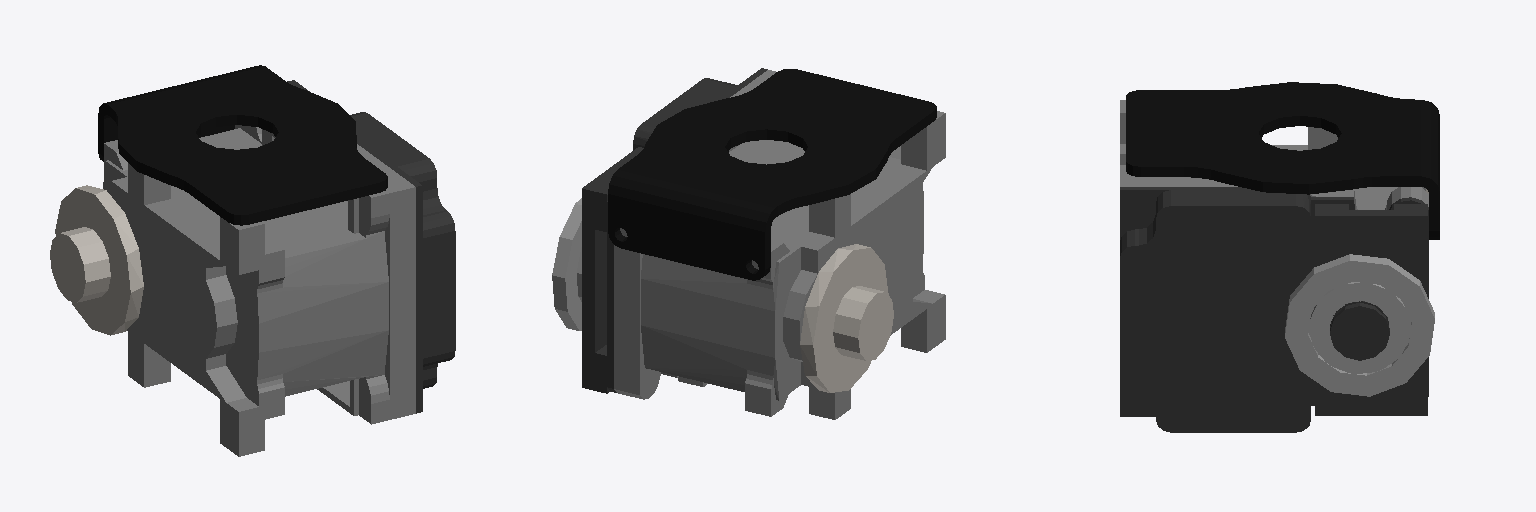
File: Elbow_Bracket_01_1_mesh.obj
3 views of the same model, side by side, from view 1: azimuth 30°, elevation 25°; view 2: azimuth 150°, elevation 25°; view 3: azimuth 270°, elevation 25° (orthographic).
Parts seen in each view (by area): view 1: Body3, Body12, Body2, Body6; view 2: Body3, Body12, Body2, Body7, Body6, Body11; view 3: Body6, Body12, Body7, Body11, Body5, Body3.
Boxes of the visible parts, box(x1,y1,x2,y2) form: Body3: box(103, 125, 415, 456); Body12: box(98, 65, 387, 225); Body2: box(50, 185, 143, 335); Body6: box(350, 112, 455, 413); Body3: box(614, 70, 945, 419); Body12: box(608, 69, 936, 280); Body2: box(800, 244, 893, 392); Body7: box(582, 147, 643, 393); Body6: box(607, 68, 767, 392); Body11: box(552, 198, 581, 330); Body6: box(1120, 187, 1428, 432); Body12: box(1126, 82, 1439, 239); Body7: box(1315, 204, 1427, 415); Body11: box(1285, 254, 1434, 396); Body5: box(1309, 282, 1410, 373); Body3: box(1120, 100, 1428, 209).
Size of the model in its own units: 0.0451 by 0.0345 by 0.0423.